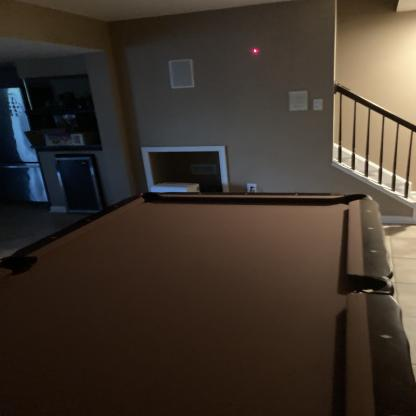target: (250, 44, 262, 57)
